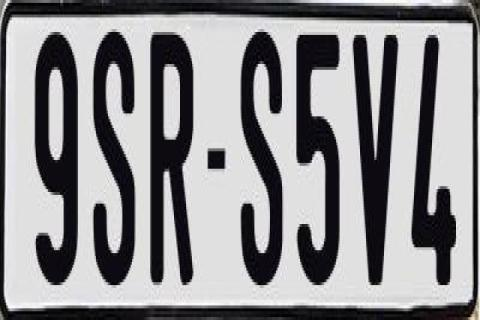0: (409, 29, 458, 294), (34, 32, 80, 302), (294, 32, 338, 285)
R: (147, 27, 191, 286)
S: (90, 32, 136, 300), (240, 23, 284, 280)
V: (352, 29, 398, 279)
